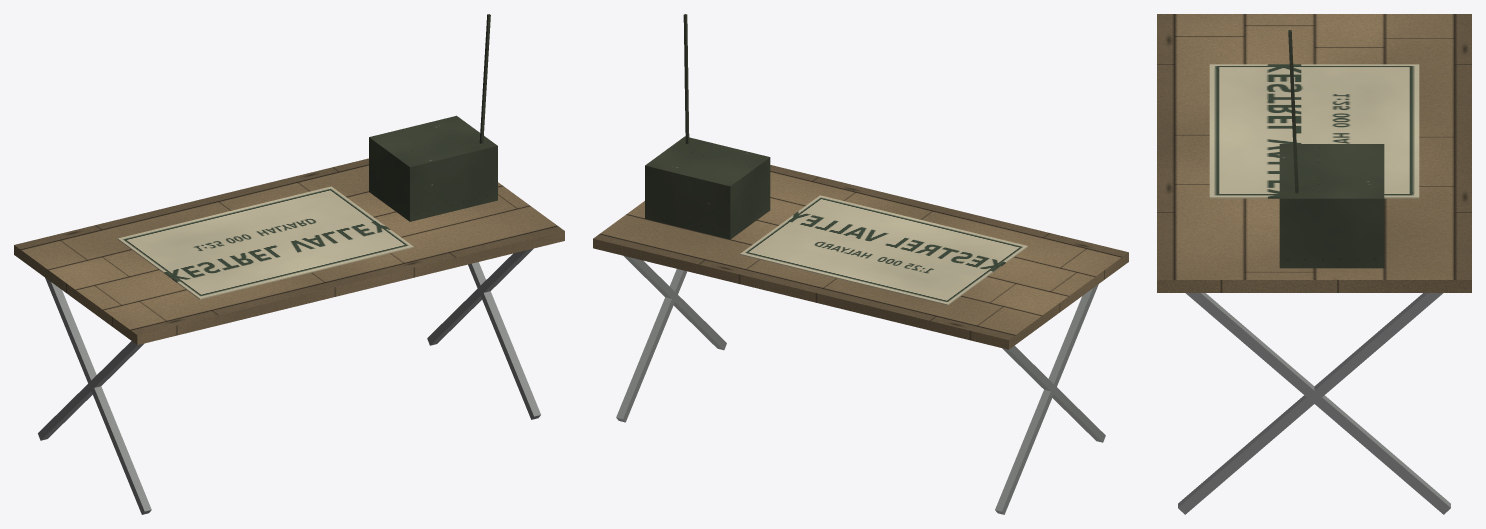
The model's file is camp_table.glb.
3 views of the same model, side by side, from view 1: azimuth 30°, elevation 25°; view 2: azimuth 150°, elevation 25°; view 3: azimuth 270°, elevation 25° (orthographic). The views are drawn at different scales.
Parts seen in each view (by area): view 1: camp_table; view 2: camp_table; view 3: camp_table.
Part boxes in pixels (x1,y1,x2,y2): camp_table: (14, 14, 564, 514); camp_table: (593, 14, 1128, 514); camp_table: (1157, 14, 1471, 514).
Bounding box in the file's own units: 1.8 × 1.51 × 0.9.
4 materials, 3 textured.
